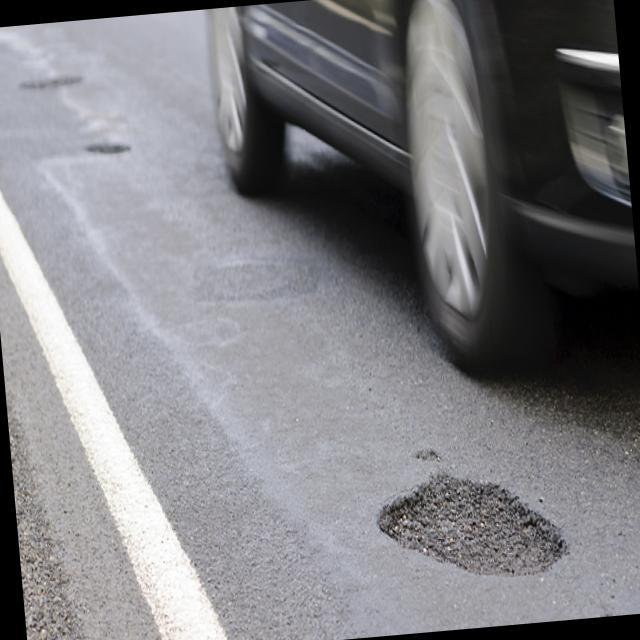Pothole: (374, 461, 573, 588), (84, 139, 130, 163)
